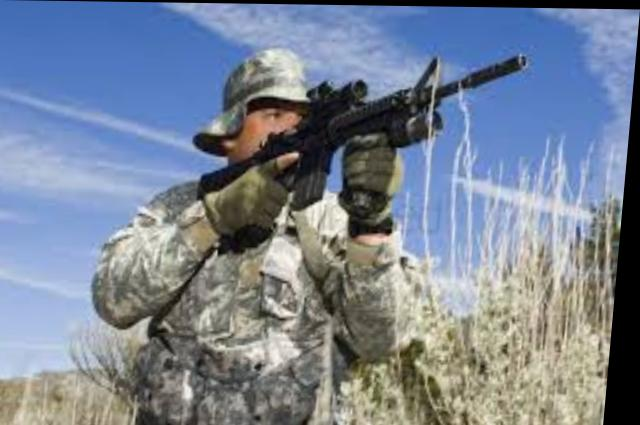other: (98, 56, 426, 424)
